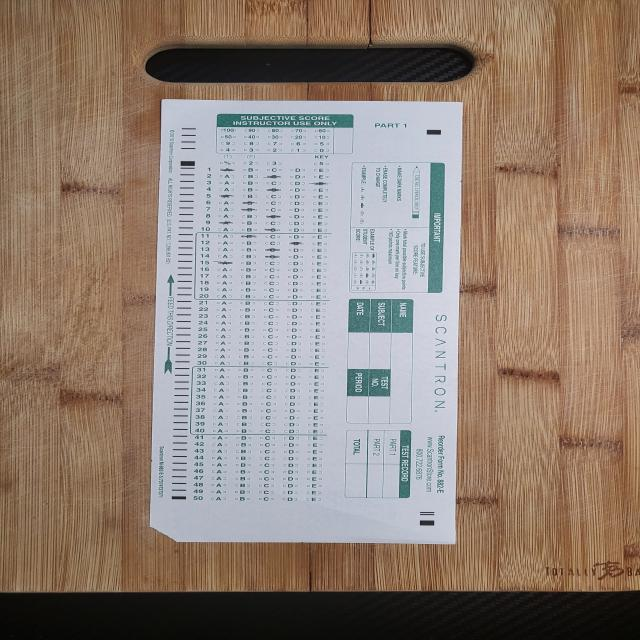scantron: (143, 99, 464, 546)
